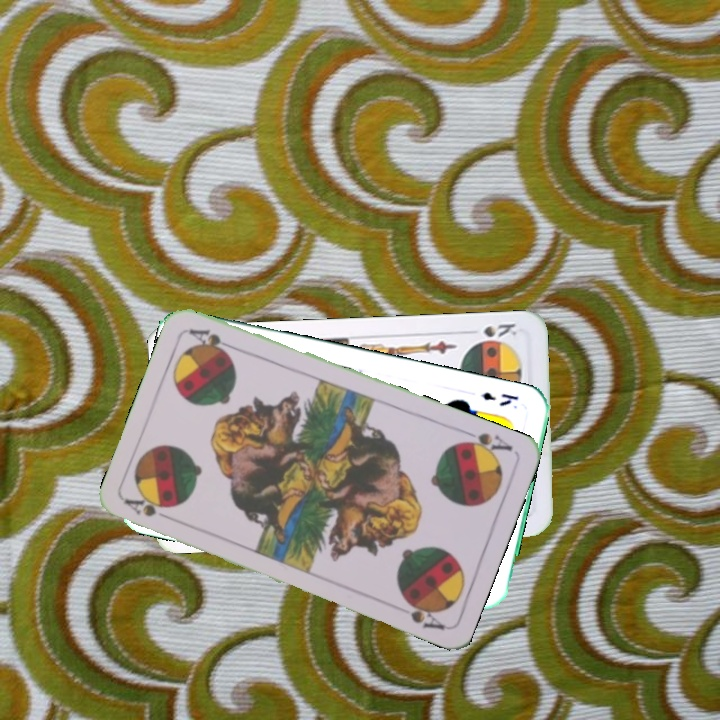EK: (478, 388, 521, 409)
SA: (455, 425, 515, 461), (121, 494, 178, 525)
SK: (479, 319, 520, 340)
